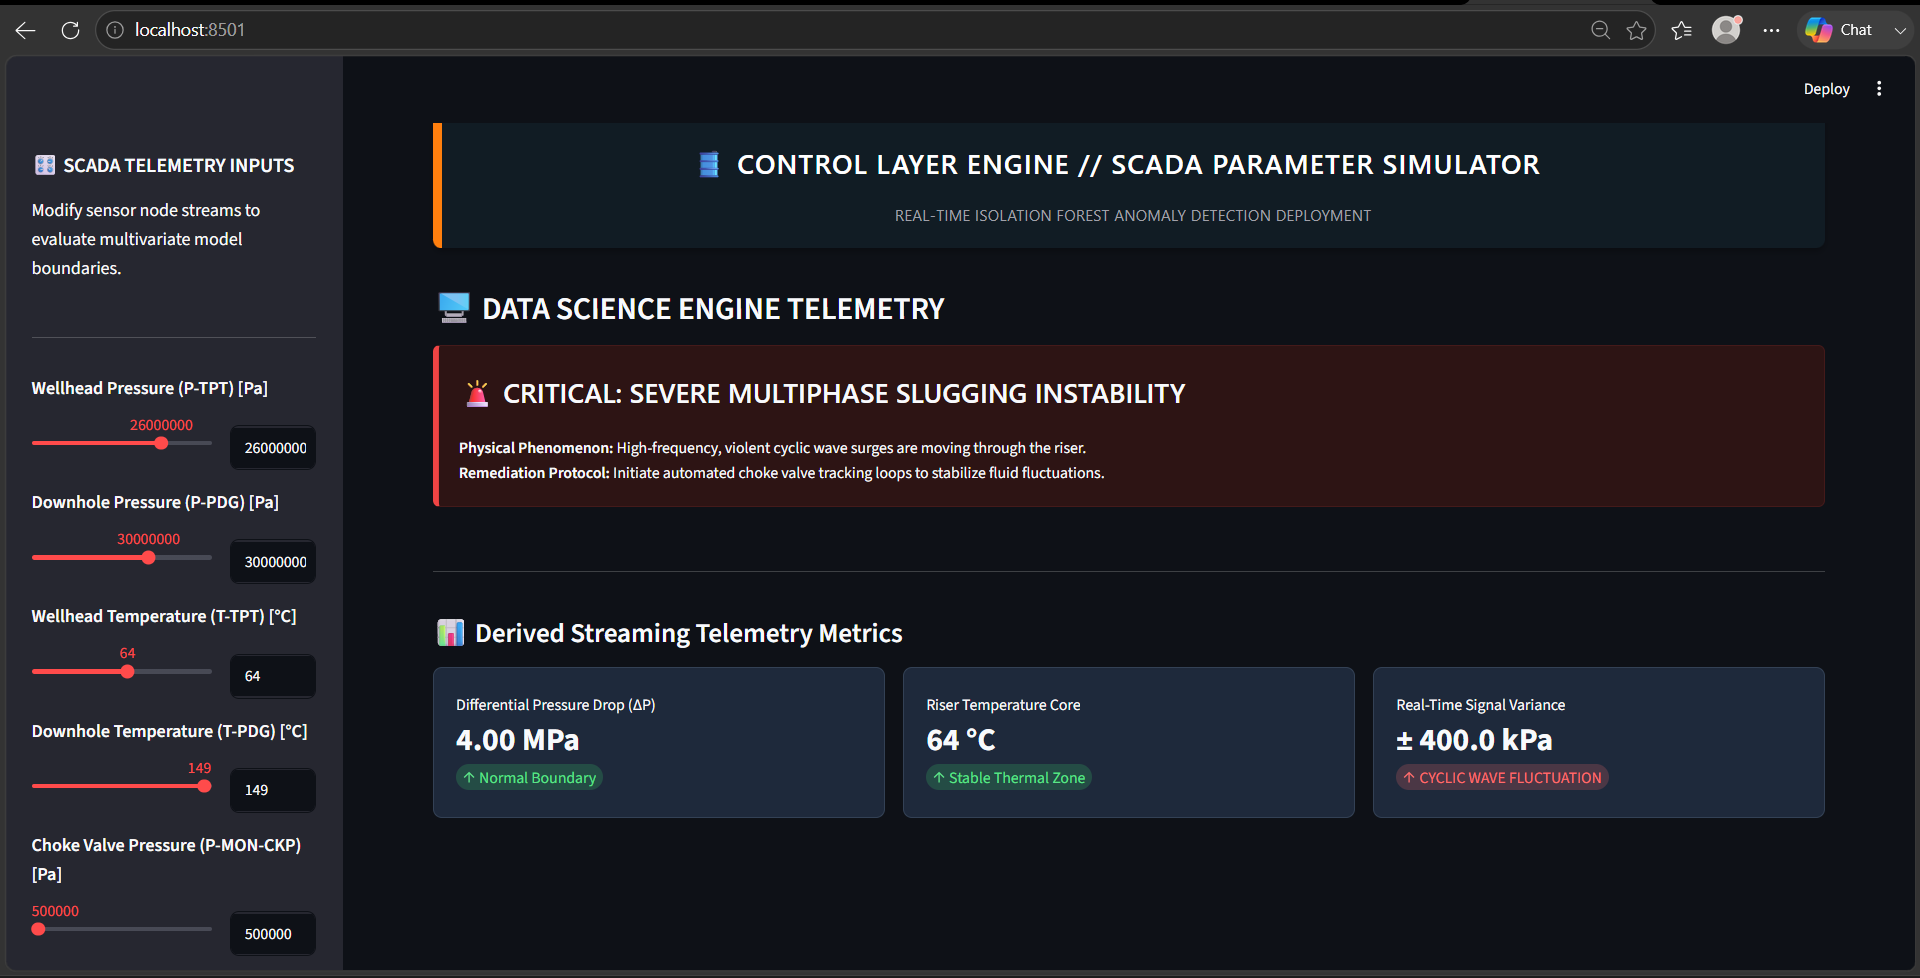

The dashboard page shown, as its layout file describes it:
{"tool":"powerbi","page":{"name":"Page 4","canvas":[1280,720],"ordinal":3},"visuals":[{"type":"shape","box":[0,0,1280,720],"z":0},{"type":"slicer","title":"Wellhead Pressure (P-TPT) [Pa]","fields":{"Values":["Simulated P-TPT.Simulated P-TPT"]},"box":[23.2,178.5,273.9,161.4],"z":1000},{"type":"slicer","title":"Downhole Pressure (P-PDG) [Pa]","fields":{"Values":["Simulated P-PDG.Simulated P-PDG"]},"box":[339.9,178.5,273.9,161.4],"z":2000},{"type":"slicer","title":"Wellhead Temperature (T-TPT) [°C]","fields":{"Values":["T-TPT.T-TPT"]},"box":[656.7,178.5,278.8,161.4],"z":3000},{"type":"slicer","title":"Pressure Volatility (Std Dev) [Pa]","fields":{"Values":["Simulated Volatility.Simulated Volatility"]},"box":[978.3,178.5,266.6,161.4],"z":4000},{"type":"cardVisual","fields":{"Data":["balanced_master_data.SCADA_Diagnostic_Alert"]},"box":[36.2,377.5,1208.8,273.8],"z":5000},{"type":"textbox","box":[23.3,30,1221.7,106.7],"z":6000}]}

Visuals, with their boxes on the page's 1280x720 design canvas (x1, y1, x2, y2). These are canvas units, not pixel positions in the 1920x978 screenshot, which may show the page scaled, cropped or inside an application window:
shape: {"left": 0, "top": 0, "right": 1280, "bottom": 720}
"Wellhead Pressure (P-TPT) [Pa]" slicer: {"left": 23, "top": 178, "right": 297, "bottom": 340}
"Downhole Pressure (P-PDG) [Pa]" slicer: {"left": 340, "top": 178, "right": 614, "bottom": 340}
"Wellhead Temperature (T-TPT) [°C]" slicer: {"left": 657, "top": 178, "right": 936, "bottom": 340}
"Pressure Volatility (Std Dev) [Pa]" slicer: {"left": 978, "top": 178, "right": 1245, "bottom": 340}
cardVisual - balanced_master_data.SCADA_Diagnostic_Alert: {"left": 36, "top": 378, "right": 1245, "bottom": 651}
textbox: {"left": 23, "top": 30, "right": 1245, "bottom": 137}
